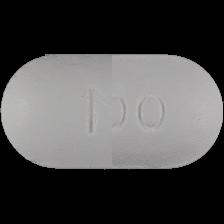21695-906: (0, 0, 224, 224)
